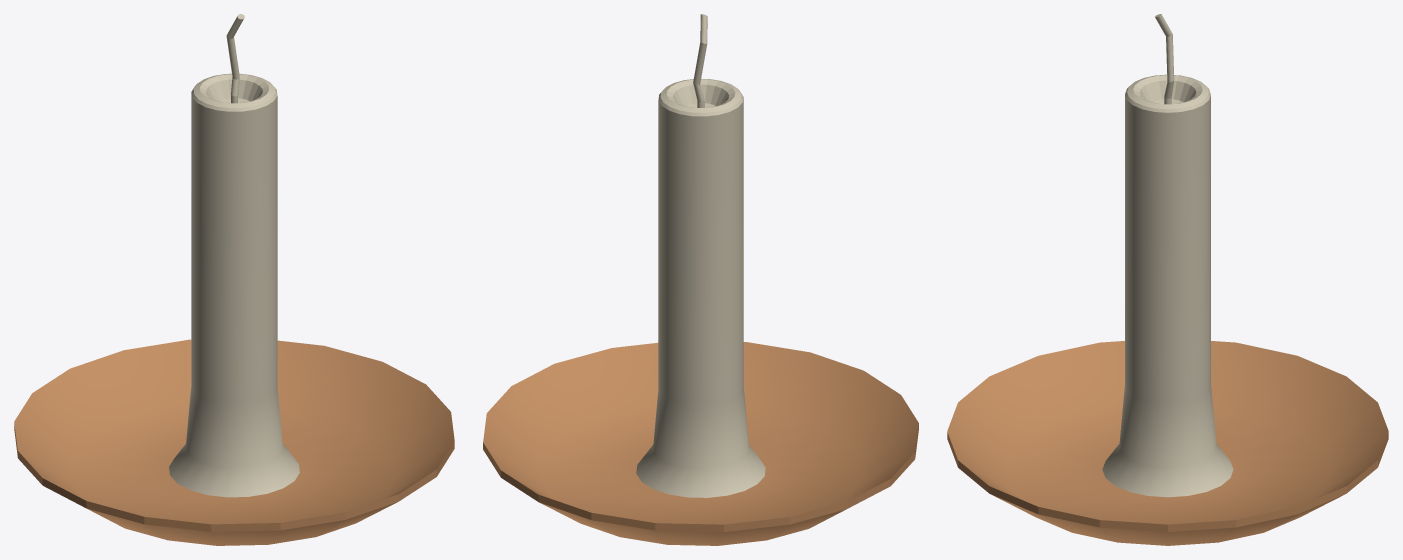
The model's file is candle.fbx.
3 renders of one model, left to right at view 1: azimuth 30°, elevation 25°; view 2: azimuth 150°, elevation 25°; view 3: azimuth 270°, elevation 25°, orthographic.
Parts seen in each view (by area): view 1: pCylinder1; view 2: pCylinder1; view 3: pCylinder1.
Part boxes in pixels (x1,y1,x2,y2): pCylinder1: (14, 14, 454, 545); pCylinder1: (483, 14, 918, 545); pCylinder1: (947, 14, 1388, 545).
Size of the model in its own units: 4 by 4.63 by 4.
